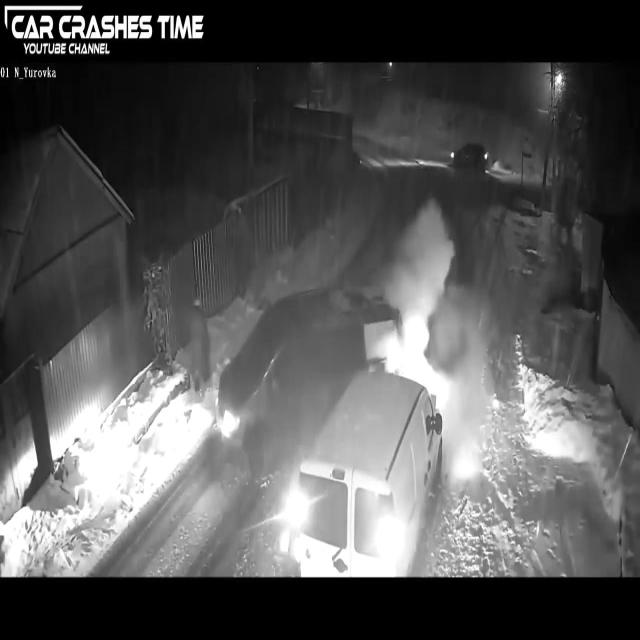accident: (214, 267, 452, 578)
